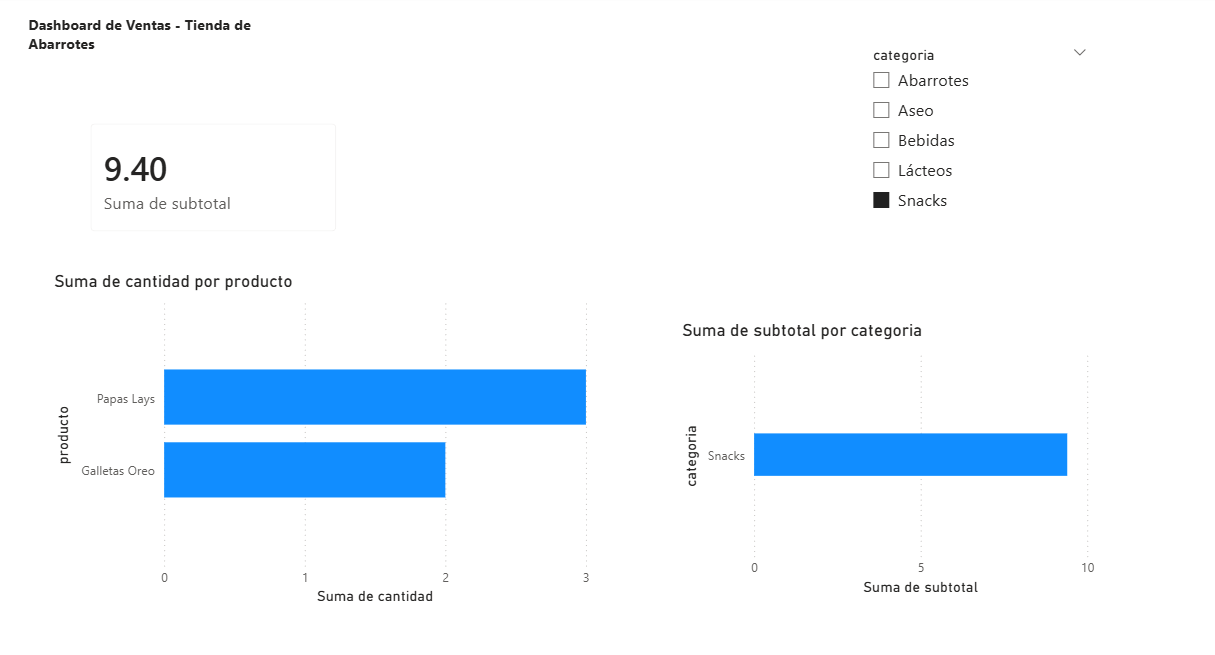

What the dashboard file says about the page in this screenshot:
{"tool":"powerbi","page":{"name":"Página 1","canvas":[1280,720],"ordinal":0},"visuals":[{"type":"cardVisual","fields":{"Data":["Sum(vw_ventas_detalle.subtotal)"]},"box":[117,107.1,273.3,139.9],"z":0},{"type":"clusteredBarChart","fields":{"Y":["Sum(vw_ventas_detalle.cantidad)"],"Category":["vw_ventas_detalle.producto"]},"box":[92.9,267.8,531.2,329],"z":1},{"type":"barChart","fields":{"Category":["vw_ventas_detalle.categoria"],"Y":["Sum(vw_ventas_detalle.subtotal)"]},"box":[703.9,314.8,411,272.2],"z":2},{"type":"slicer","fields":{"Values":["vw_ventas_detalle.categoria"]},"box":[882.1,43.7,232.8,224.1],"z":3},{"type":"textbox","box":[67.8,13.1,231.7,79.8],"z":4}]}

Visuals, with their boxes on the page's 1280x720 design canvas (x1, y1, x2, y2). These are canvas units, not pixel positions in the 1215x655 screenshot, which may show the page scaled, cropped or inside an application window:
cardVisual - Sum(vw_ventas_detalle.subtotal): locate(117, 107, 390, 247)
clusteredBarChart - Sum(vw_ventas_detalle.cantidad) x vw_ventas_detalle.producto: locate(93, 268, 624, 597)
barChart - vw_ventas_detalle.categoria x Sum(vw_ventas_detalle.subtotal): locate(704, 315, 1115, 587)
slicer - vw_ventas_detalle.categoria: locate(882, 44, 1115, 268)
textbox: locate(68, 13, 300, 93)
